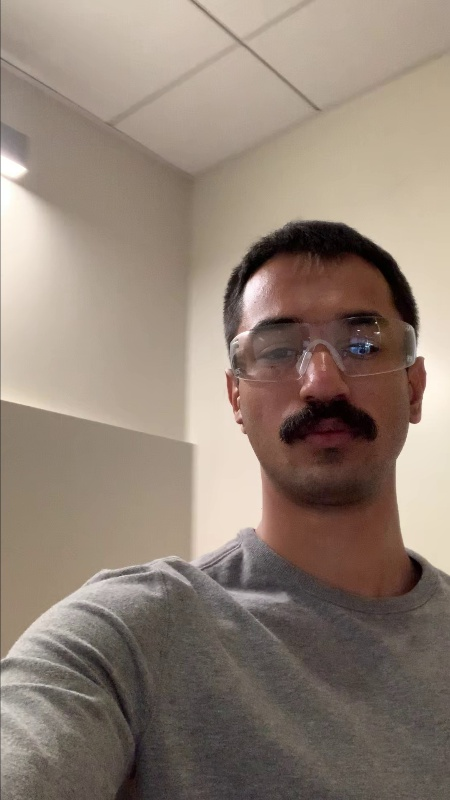glasses: (224, 310, 417, 385)
